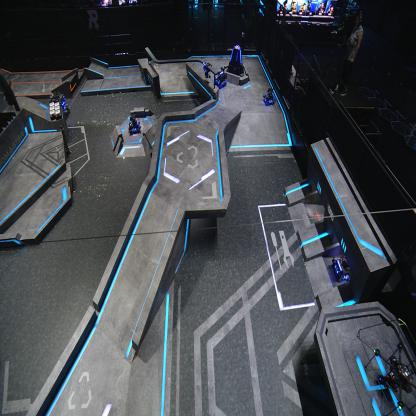car: (332, 253, 354, 284), (49, 91, 69, 122), (128, 113, 141, 136), (214, 67, 228, 88), (262, 87, 276, 106)
